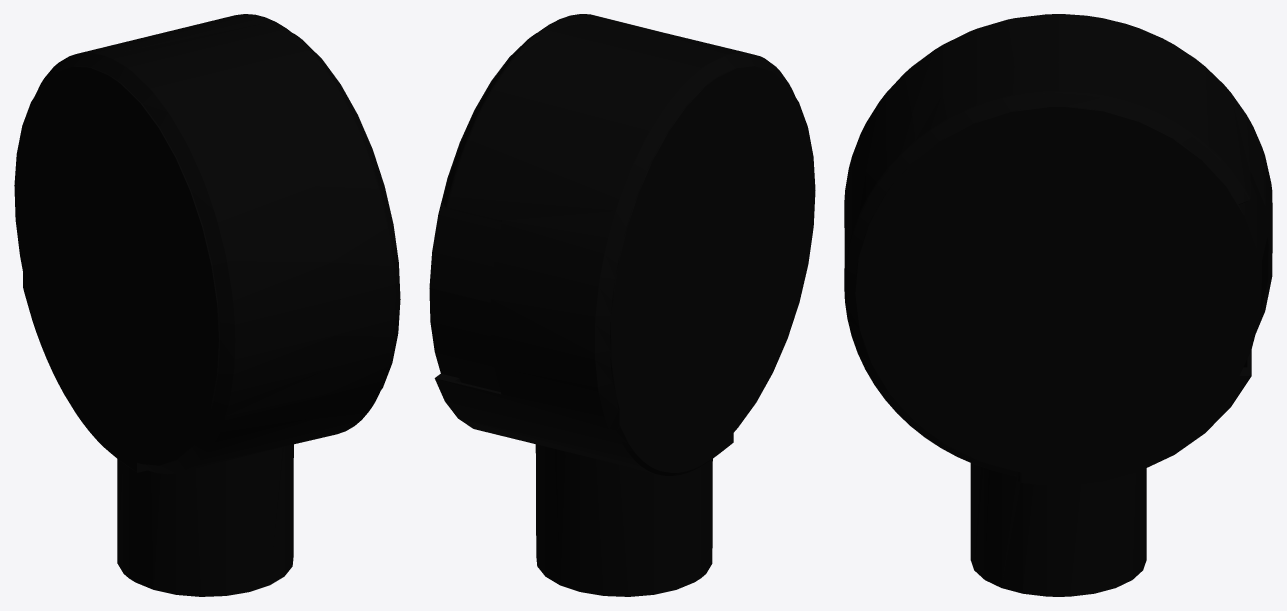
File: left_arm_link1.obj
3 views of the same model, side by side, from view 1: azimuth 30°, elevation 25°; view 2: azimuth 150°, elevation 25°; view 3: azimuth 270°, elevation 25° (orthographic).
Visible parts, largest first — view 1: left_arm_link1; view 2: left_arm_link1; view 3: left_arm_link1.
Part boxes in pixels (x1,y1,x2,y2): left_arm_link1: (14,14,400,596); left_arm_link1: (429,14,815,596); left_arm_link1: (844,14,1272,596).
Size of the model in its own units: 0.049 by 0.1317 by 0.1007.
1 material, 1 textured.
